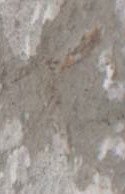Spalling: (1, 1, 125, 194)
